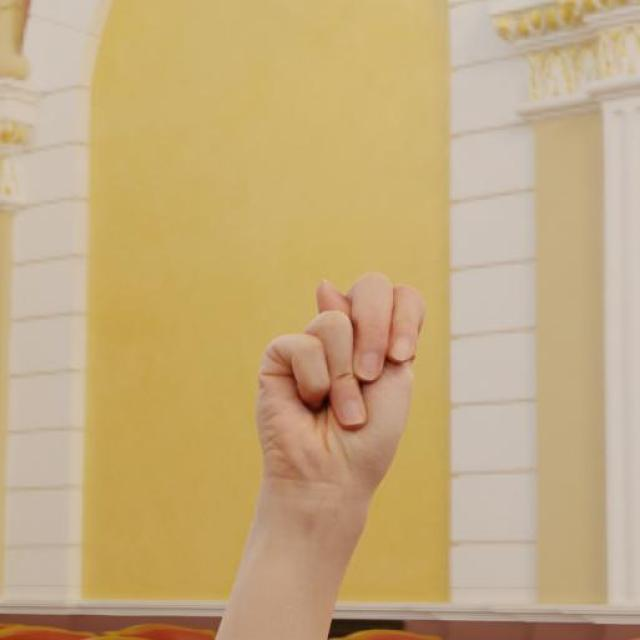N: (252, 269, 428, 501)
